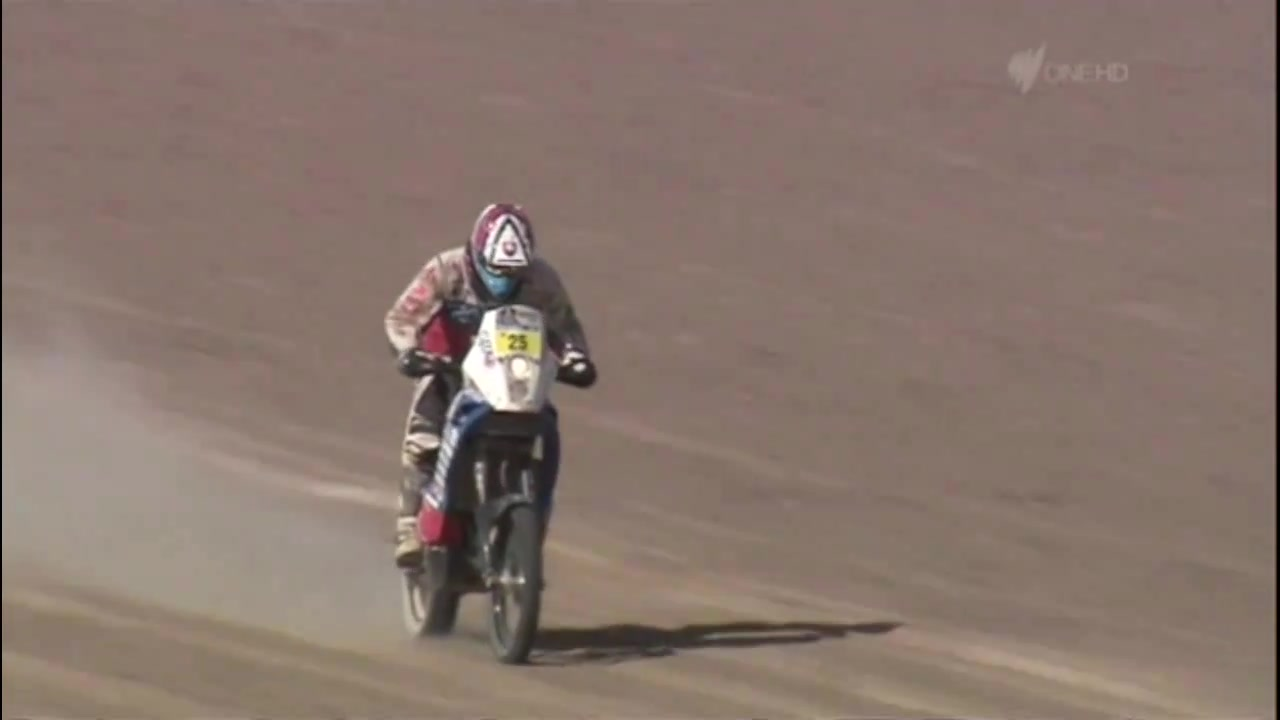motorbike: (387, 294, 597, 662)
